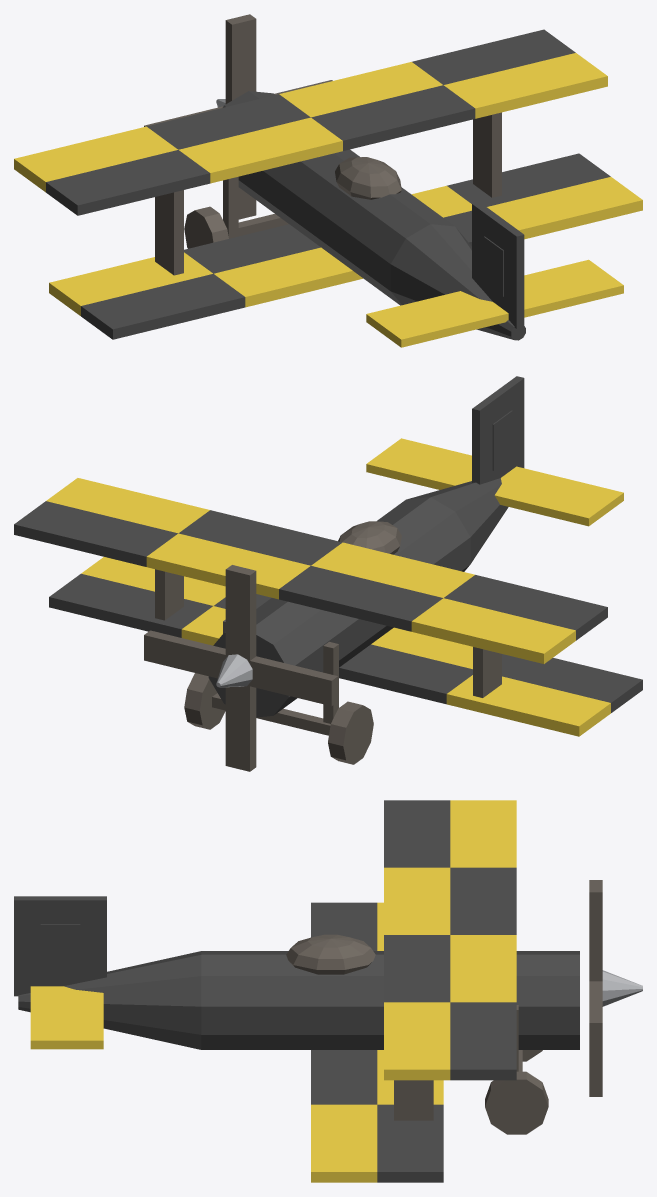
The model's file is boss-2-checker.glb.
3 renders of one model, top to bottom at view 1: azimuth 30°, elevation 25°; view 2: azimuth 150°, elevation 25°; view 3: azimuth 270°, elevation 25°, orthographic. The views are drawn at different scales.
Parts seen in each view (by area): view 1: boss-2-checker; view 2: boss-2-checker; view 3: boss-2-checker.
Boxes of the visible parts, x1,y1,x2,y2 form: boss-2-checker: (14, 14, 642, 347); boss-2-checker: (14, 376, 642, 771); boss-2-checker: (14, 800, 642, 1182).
Bounding box in the file's own units: 4.8 × 1.73 × 4.74.
